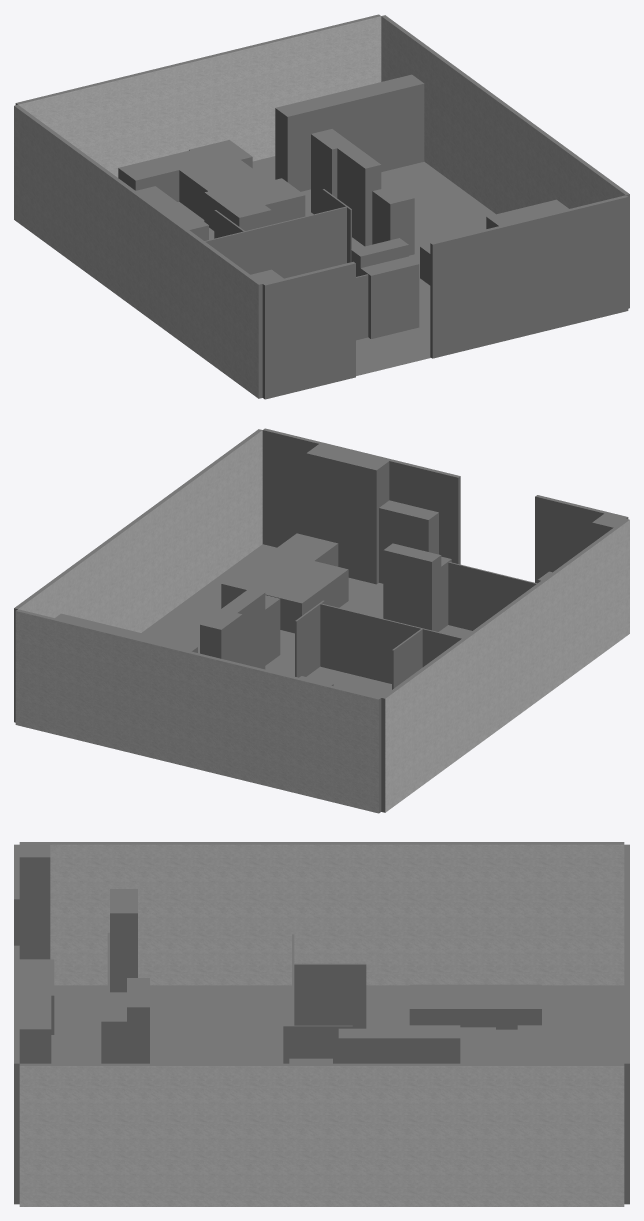
Rendered from lab0_1.gltf.
3 renders of one model, top to bottom at view 1: azimuth 30°, elevation 25°; view 2: azimuth 150°, elevation 25°; view 3: azimuth 270°, elevation 25°, orthographic. The views are drawn at different scales.
Parts seen in each view (by area): view 1: root; view 2: root; view 3: root.
Part boxes in pixels (x1,y1,x2,y2): root: [14, 14, 629, 399]; root: [14, 428, 629, 813]; root: [14, 842, 629, 1206].
Size of the model in its own units: 9.2 by 2.7 by 10.7.
Materials: 2 (1 with a texture image).
